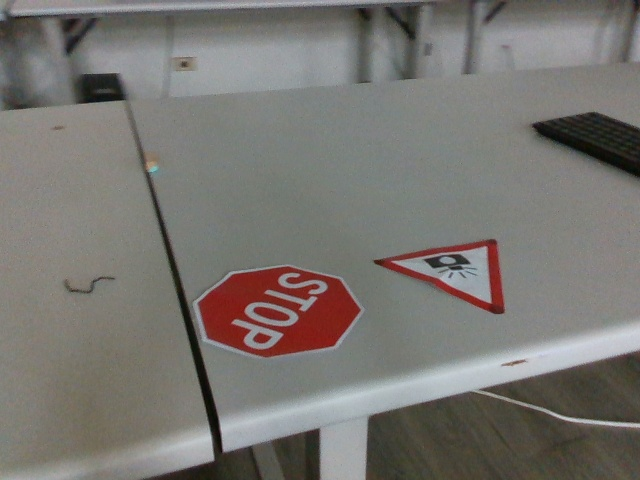camera: (376, 239, 512, 316)
stop: (195, 265, 366, 358)
